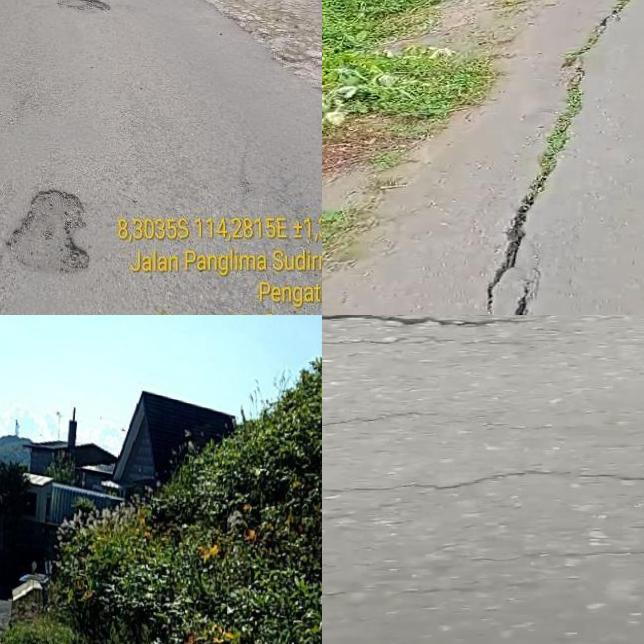Lubang: (13, 190, 88, 274), (59, 0, 110, 16)
Melintang: (322, 315, 644, 343)
Memanjang: (476, 0, 633, 315)
